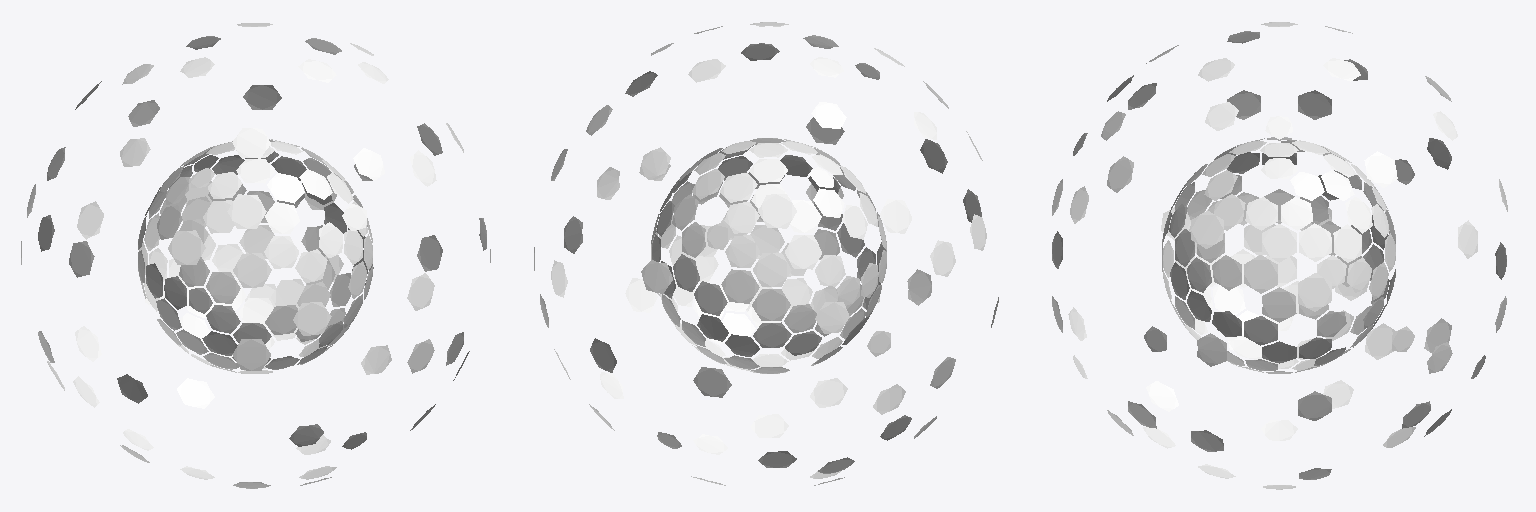
Rendered from hexx03.obj.
3 renders of one model, left to right at view 1: azimuth 30°, elevation 25°; view 2: azimuth 150°, elevation 25°; view 3: azimuth 270°, elevation 25°, orthographic.
Parts seen in each view (by area): view 1: Subdivision_Surface; view 2: Subdivision_Surface; view 3: Subdivision_Surface.
Part boxes in pixels (x1,y1,x2,y2): Subdivision_Surface: (21,23,490,488); Subdivision_Surface: (534,22,998,485); Subdivision_Surface: (1052,22,1507,489).
Bounding box in the file's own units: 379 × 380 × 379.